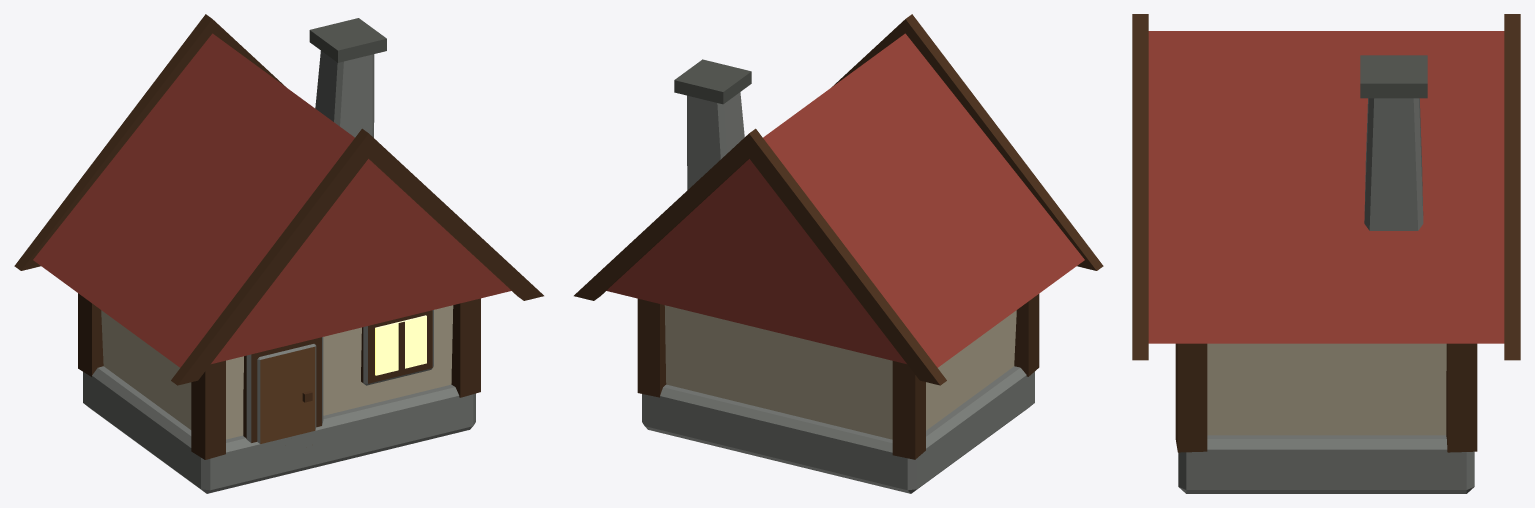
Rendered from cottage.glb.
3 views of the same model, side by side, from view 1: azimuth 30°, elevation 25°; view 2: azimuth 150°, elevation 25°; view 3: azimuth 270°, elevation 25° (orthographic). The views are drawn at different scales.
Visible parts, largest first — view 1: cottage; view 2: cottage; view 3: cottage.
Part boxes in pixels (x1,y1,x2,y2): cottage: [14, 14, 543, 493]; cottage: [574, 14, 1103, 493]; cottage: [1132, 14, 1520, 493].
Bounding box in the file's own units: 3.74 × 3.34 × 2.88.
